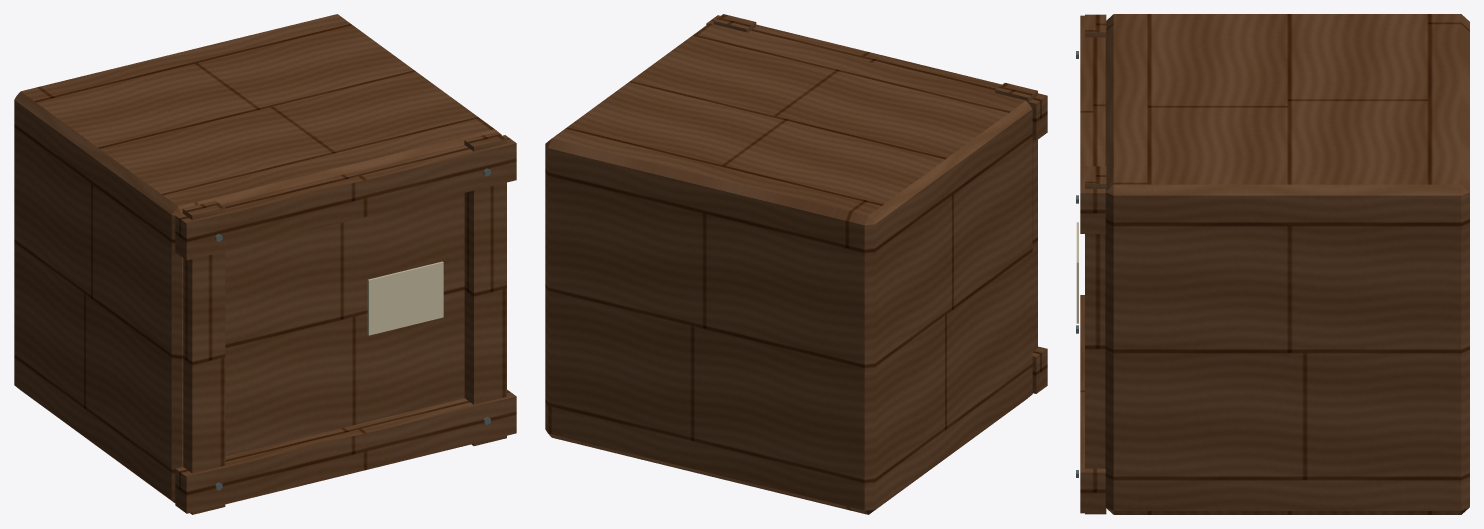
File: wood-crate-large.glb
3 views of the same model, side by side, from view 1: azimuth 30°, elevation 25°; view 2: azimuth 150°, elevation 25°; view 3: azimuth 270°, elevation 25° (orthographic). The views are drawn at different scales.
Parts seen in each view (by area): view 1: Crate boards, Crate rail.001, Crate rail, Crate front batten, Crate front batten.001, Small shipping label; view 2: Crate boards, Crate rail.001, Crate front batten, Crate rail; view 3: Crate boards, Crate front batten.001, Crate rail.001, Crate rail, Crate front batten.
Part boxes in pixels (<box>): Crate boards: <box>14,14,501,502</box>; Crate rail.001: <box>175,135,516,260</box>; Crate rail: <box>175,389,516,513</box>; Crate front batten: <box>182,200,225,514</box>; Crate front batten.001: <box>464,132,506,445</box>; Small shipping label: <box>367,261,443,335</box>; Crate boards: <box>545,23,1032,514</box>; Crate rail.001: <box>706,15,1047,140</box>; Crate front batten: <box>995,83,1037,351</box>; Crate rail: <box>1032,346,1047,393</box>; Crate boards: <box>1105,14,1469,514</box>; Crate front batten.001: <box>1085,166,1106,514</box>; Crate rail.001: <box>1080,15,1105,233</box>; Crate rail: <box>1080,295,1105,513</box>; Crate front batten: <box>1085,14,1106,39</box>.
Bounding box in the file's own units: 0.75 × 0.65 × 0.702.
3 materials, 2 textured.
